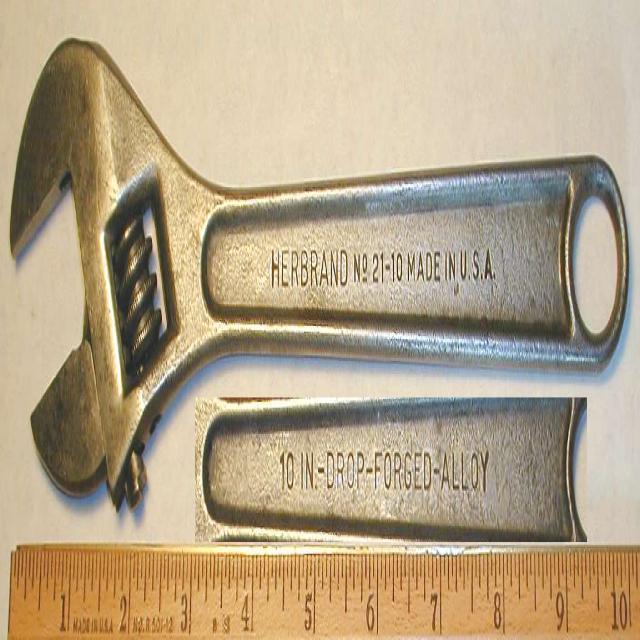wrench: (4, 26, 639, 554)
